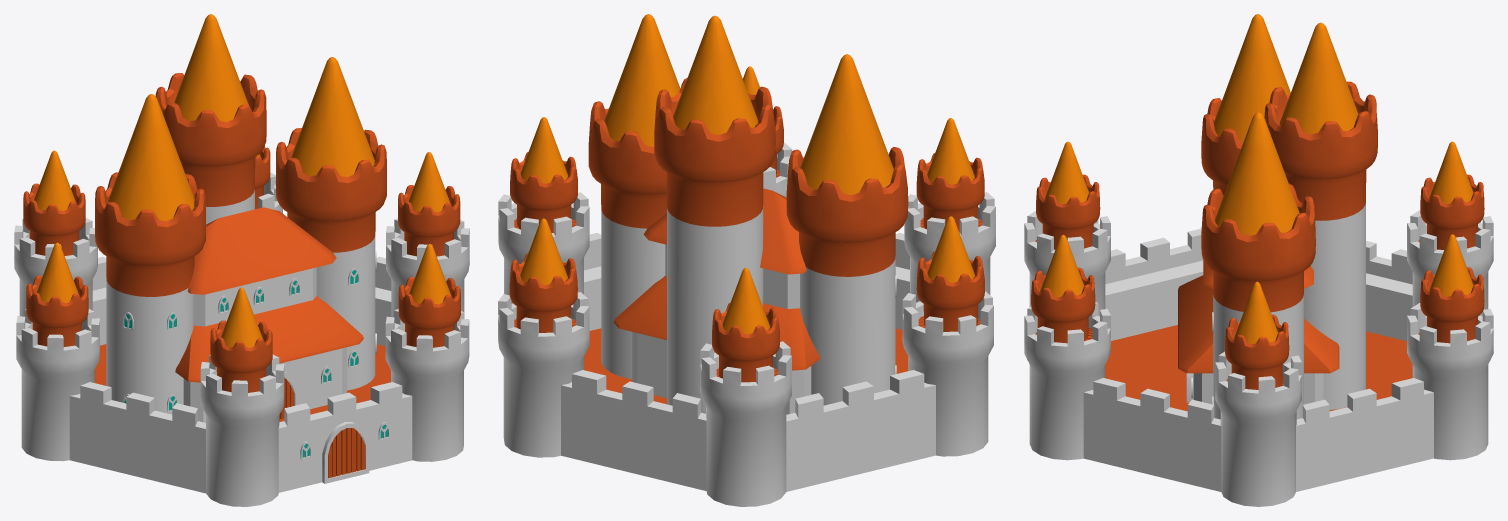
Rendered from Hex_Castle_UpgradeDouble_Stage1.fbx.
The picture shows the model from 3 angles, left to right: view 1: azimuth 30°, elevation 25°; view 2: azimuth 150°, elevation 25°; view 3: azimuth 270°, elevation 25°; orthographic projection. The views are drawn at different scales.
Visible parts, largest first — view 1: Hexagon_Castle_UpgradeDouble_Stage1; view 2: Hexagon_Castle_UpgradeDouble_Stage1; view 3: Hexagon_Castle_UpgradeDouble_Stage1.
Boxes of the visible parts, <box> form: Hexagon_Castle_UpgradeDouble_Stage1: <box>14,14,469,506</box>; Hexagon_Castle_UpgradeDouble_Stage1: <box>498,14,995,506</box>; Hexagon_Castle_UpgradeDouble_Stage1: <box>1024,14,1493,506</box>.
Bounding box in the file's own units: 1129 × 890 × 1010.
Materials: 1 (1 with a texture image).
